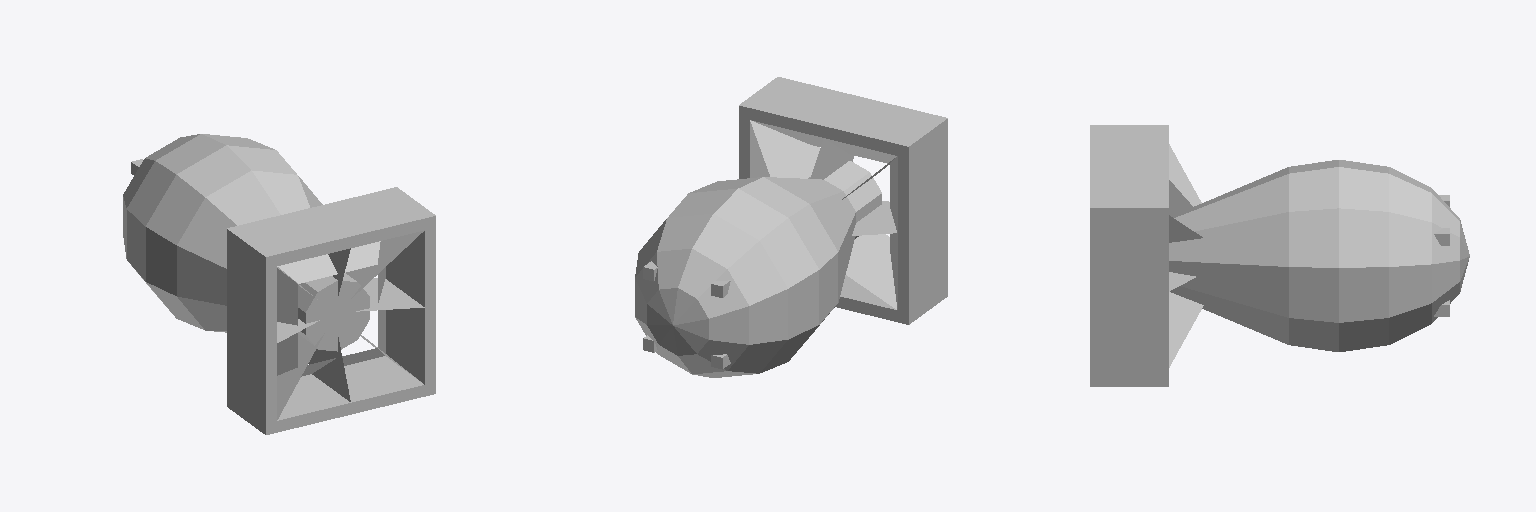
Rendered from fat_man.obj.
The picture shows the model from 3 angles: view 1: azimuth 30°, elevation 25°; view 2: azimuth 150°, elevation 25°; view 3: azimuth 270°, elevation 25°; orthographic projection.
Visible parts, largest first — view 1: Fat_Man; view 2: Fat_Man; view 3: Fat_Man.
Part boxes in pixels (left/top/right/bottom): Fat_Man: left=123, top=134, right=435, bottom=434; Fat_Man: left=635, top=77, right=947, bottom=377; Fat_Man: left=1090, top=125, right=1469, bottom=386.
Size of the model in its own units: 1.5 by 1.5 by 2.9.